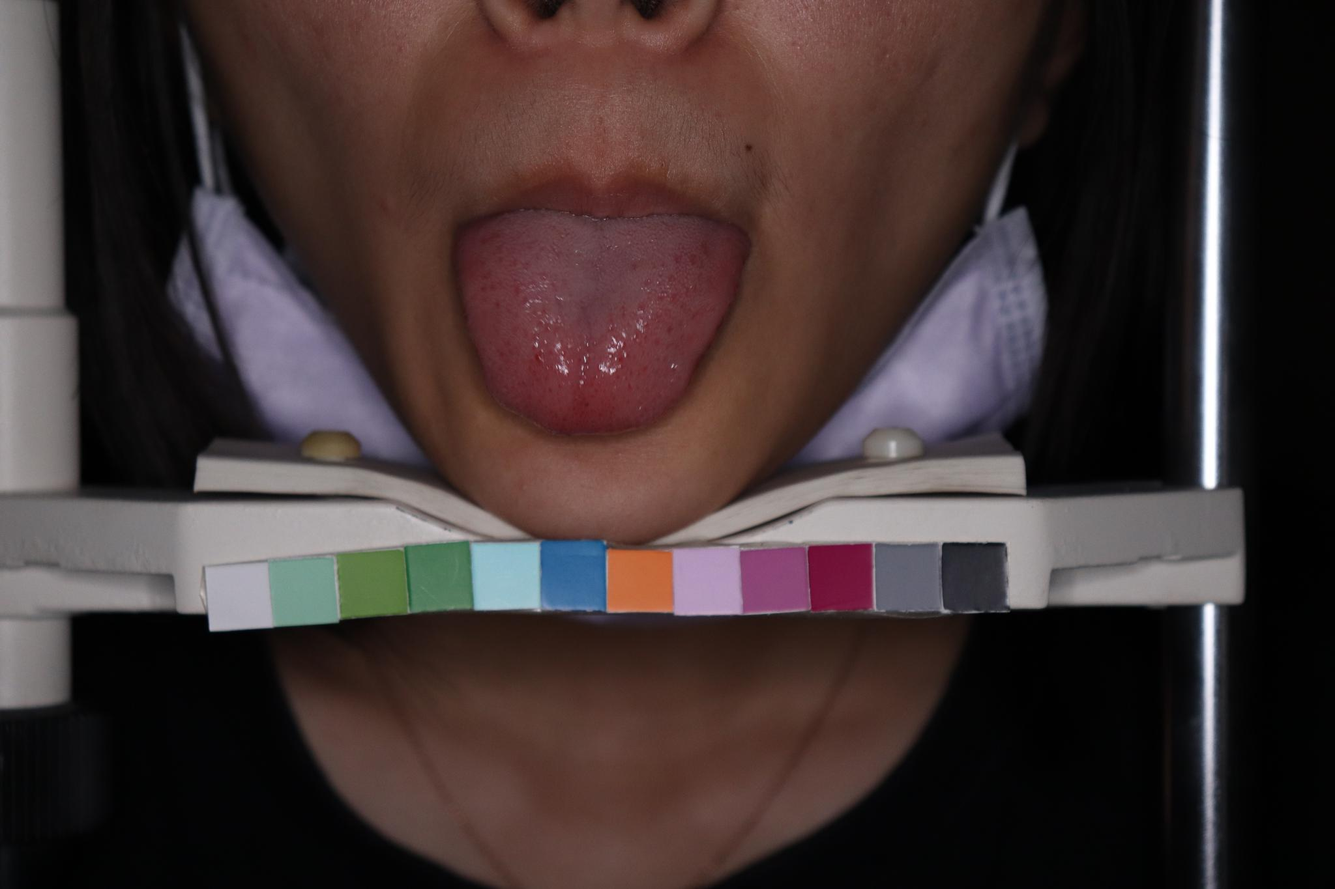baitaishe: (456, 206, 750, 434)
hongdianshe: (534, 350, 544, 363), (617, 354, 624, 363)
hongshe: (456, 206, 750, 434)
